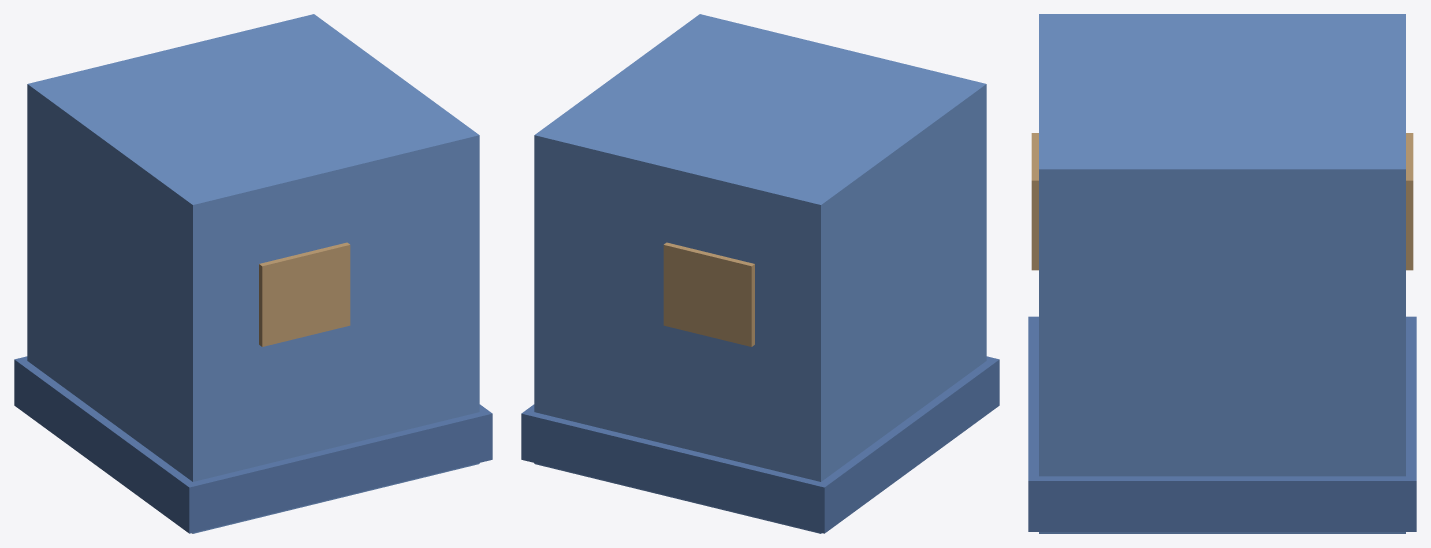
The model's file is macacao_canela.glb.
3 views of the same model, side by side, from view 1: azimuth 30°, elevation 25°; view 2: azimuth 150°, elevation 25°; view 3: azimuth 270°, elevation 25° (orthographic). The views are drawn at different scales.
Parts seen in each view (by area): view 1: macacao_canela; view 2: macacao_canela; view 3: macacao_canela.
Boxes of the visible parts, left/top/right/bottom form: macacao_canela: left=14, top=14, right=492, bottom=533; macacao_canela: left=521, top=14, right=999, bottom=533; macacao_canela: left=1028, top=14, right=1416, bottom=533.
Size of the model in its own units: 0.275 by 0.285 by 0.275.
